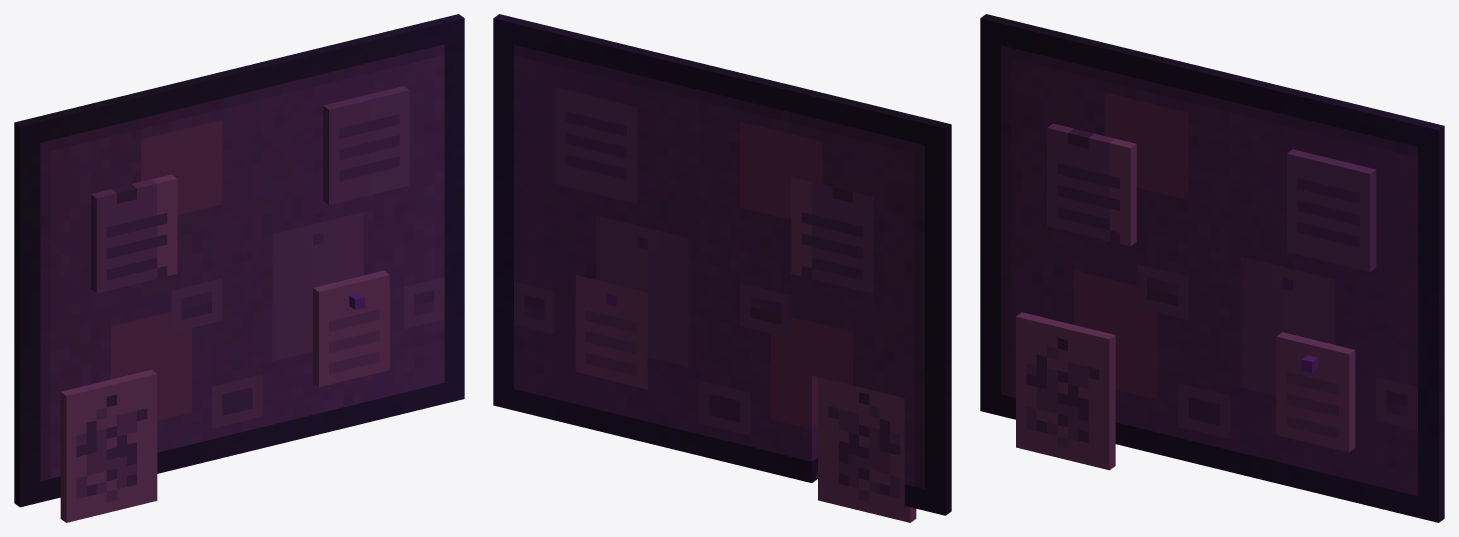
Rendered from PinBoard.obj.
The picture shows the model from 3 angles, left to right: view 1: azimuth 30°, elevation 25°; view 2: azimuth 150°, elevation 25°; view 3: azimuth 330°, elevation 25°; orthographic projection. The views are drawn at different scales.
Size of the model in its own units: 4.4 by 3.8 by 0.3.
1 material, 1 textured.
